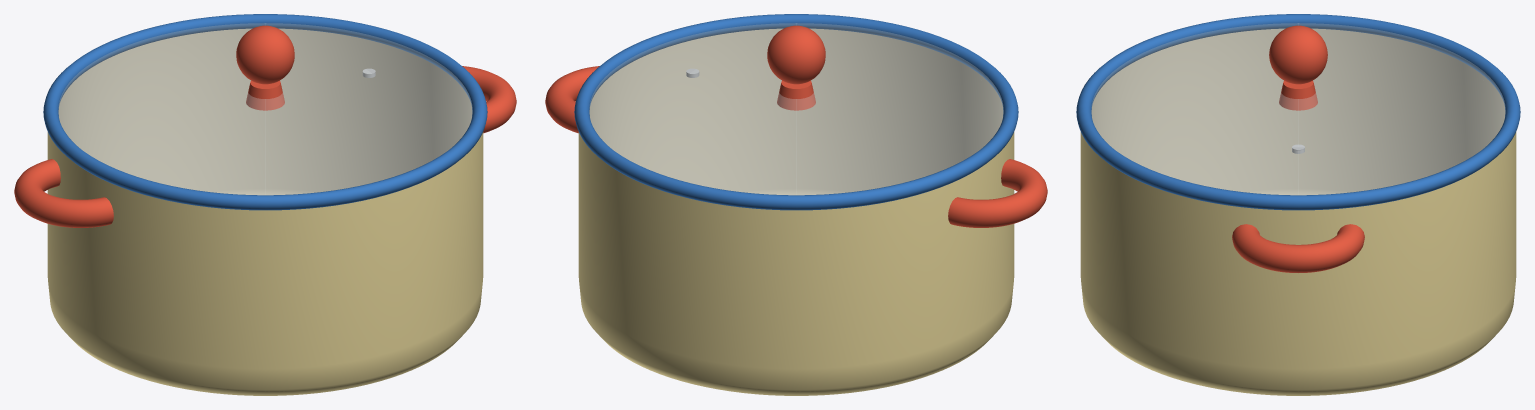
File: danish.glb
The picture shows the model from 3 angles, left to right: view 1: azimuth 30°, elevation 25°; view 2: azimuth 150°, elevation 25°; view 3: azimuth 270°, elevation 25°; orthographic projection.
Visible parts, largest first — view 1: Shell, LidGlass, Interior, LidRim, Handle (×2), Knob, KnobNeck; view 2: Shell, LidGlass, Interior, LidRim, Handle (×2), Knob, KnobNeck; view 3: Shell, LidGlass, Interior, LidRim, Handle, Knob, KnobNeck.
Part boxes in pixels (x1=…): Shell: x1=47, y1=132, x2=483, y2=395; LidGlass: x1=58, y1=23, x2=472, y2=194; Interior: x1=58, y1=28, x2=472, y2=195; LidRim: x1=43, y1=14, x2=487, y2=210; Handle (×2): x1=14, y1=66, x2=516, y2=227; Knob: x1=236, y1=25, x2=294, y2=84; KnobNeck: x1=246, y1=80, x2=284, y2=110; Shell: x1=578, y1=132, x2=1014, y2=395; LidGlass: x1=589, y1=23, x2=1003, y2=194; Interior: x1=589, y1=28, x2=1003, y2=195; LidRim: x1=574, y1=14, x2=1018, y2=210; Handle (×2): x1=545, y1=66, x2=1047, y2=227; Knob: x1=767, y1=25, x2=825, y2=84; KnobNeck: x1=777, y1=80, x2=815, y2=110; Shell: x1=1080, y1=132, x2=1516, y2=395; LidGlass: x1=1091, y1=23, x2=1505, y2=194; Interior: x1=1091, y1=28, x2=1505, y2=195; LidRim: x1=1076, y1=14, x2=1520, y2=210; Handle: x1=1232, y1=224, x2=1364, y2=272; Knob: x1=1269, y1=25, x2=1327, y2=84; KnobNeck: x1=1279, y1=80, x2=1317, y2=110.
Size of the model in its own units: 0.257 by 0.144 by 0.204.
